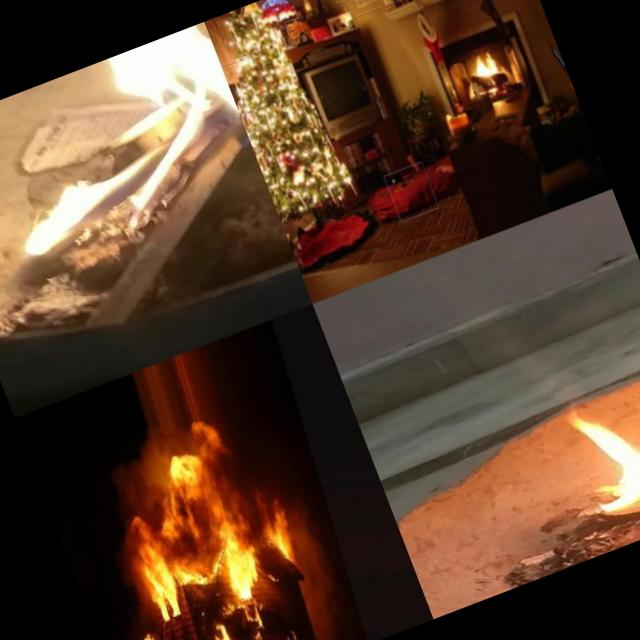fire: (0, 22, 271, 281), (101, 422, 285, 636), (549, 372, 640, 555), (254, 490, 308, 575), (462, 49, 505, 86), (123, 629, 160, 640)
